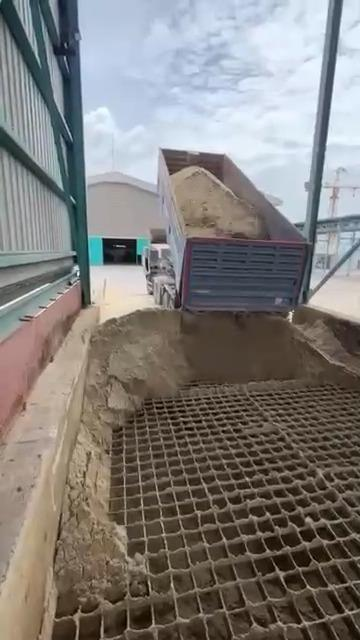sand: (56, 310, 352, 614), (171, 167, 268, 238), (299, 320, 360, 378)
